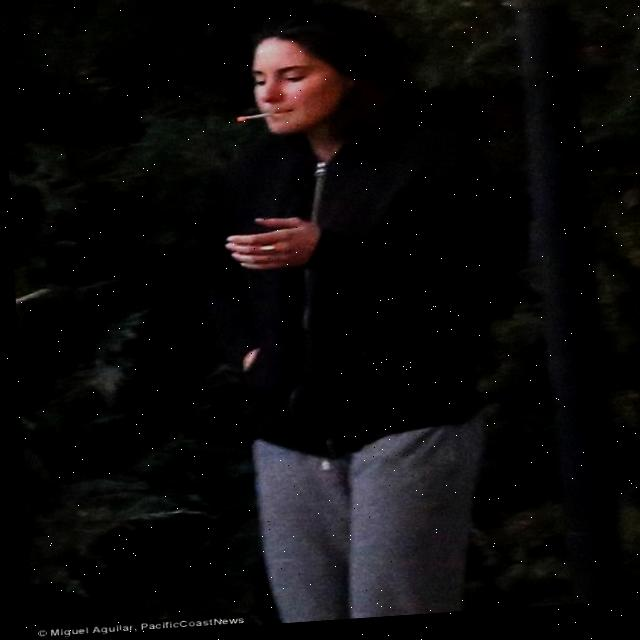cigarette: (233, 116, 274, 126)
